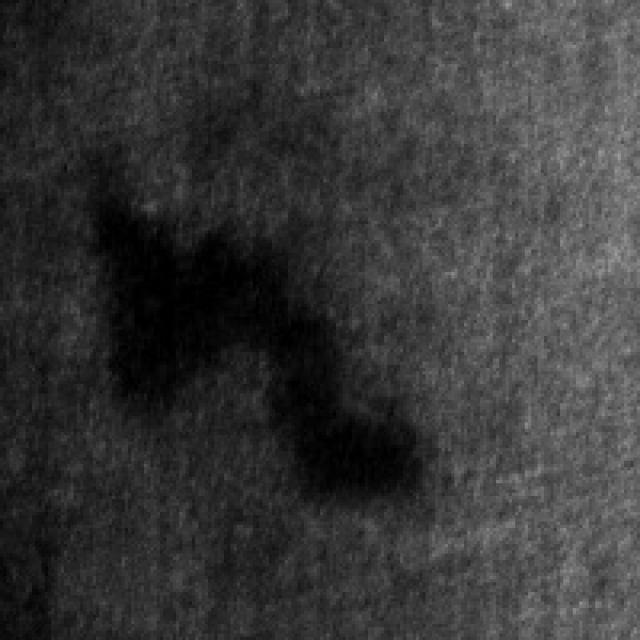patches: (83, 166, 419, 499)
